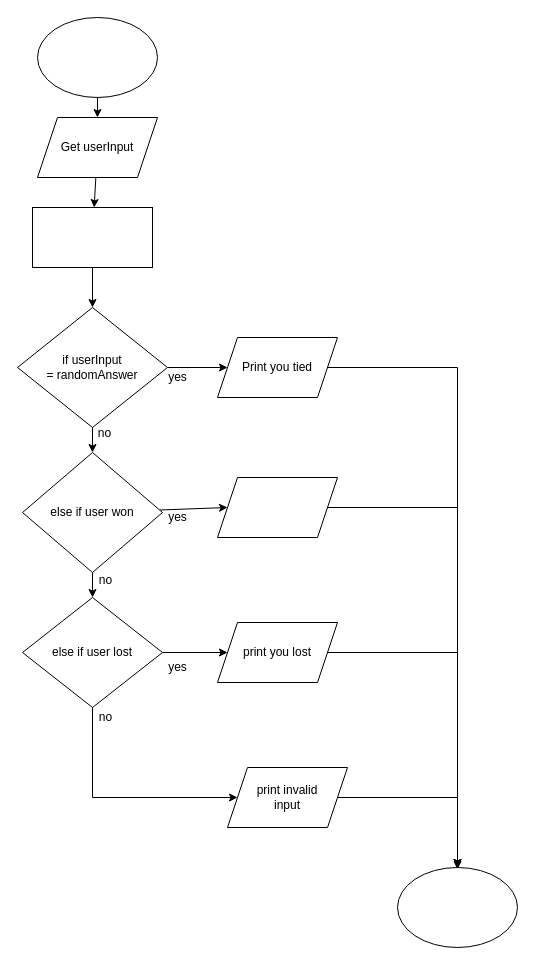
This 535x965 diagram has some shape labels left out. The box of each missing label's shape, as (x1, y1, x2, y2) in pixels:
generate randomAnswer: (32, 206, 152, 268)
print you won: (216, 476, 338, 538)
start: (36, 16, 158, 98)
stop: (396, 866, 518, 948)
